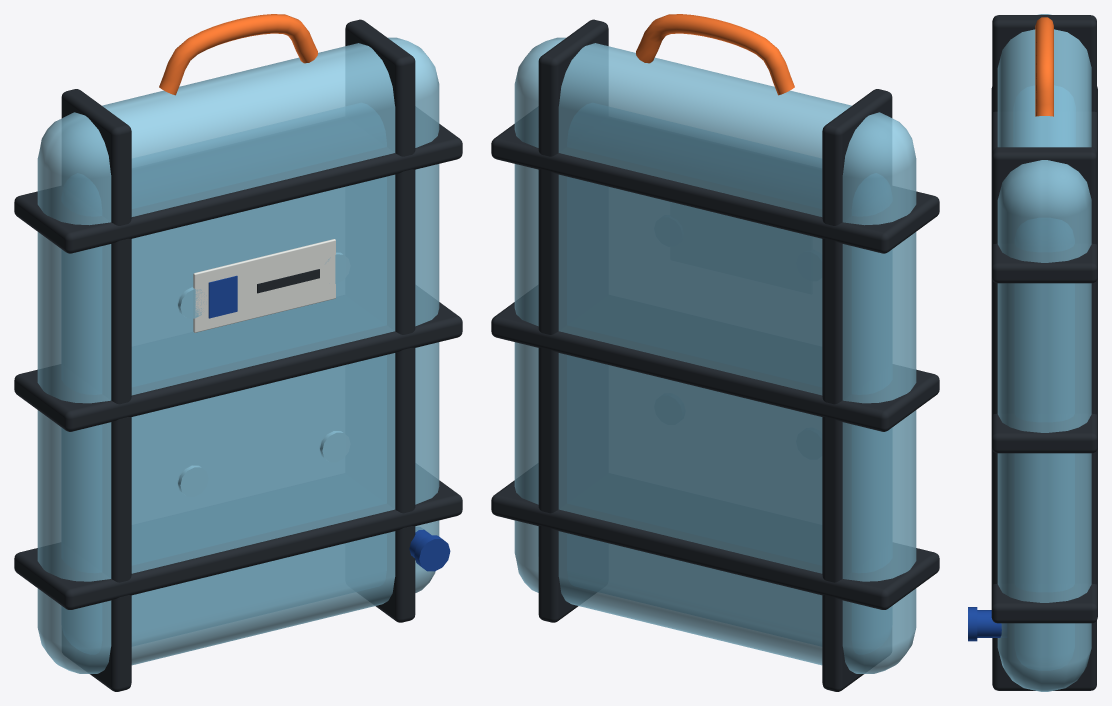
File: water-wall-bag.glb
The picture shows the model from 3 angles, left to right: view 1: azimuth 30°, elevation 25°; view 2: azimuth 150°, elevation 25°; view 3: azimuth 270°, elevation 25°; orthographic projection. The views are drawn at different scales.
Visible parts, largest first — view 1: water-wall-bag-bladder, water-wall-bag-dark-polymer, water-wall-bag-hull-white, handle-safety-orange, drink_valve-nasa-blue, water-wall-bag-nasa-blue; view 2: water-wall-bag-bladder, water-wall-bag-dark-polymer, handle-safety-orange; view 3: water-wall-bag-bladder, water-wall-bag-dark-polymer, handle-safety-orange, drink_valve-nasa-blue.
Part boxes in pixels (left/top/right/bottom): water-wall-bag-bladder: left=37, top=37, right=439, bottom=673; water-wall-bag-dark-polymer: left=14, top=19, right=462, bottom=691; water-wall-bag-hull-white: left=193, top=239, right=335, bottom=332; handle-safety-orange: left=159, top=14, right=317, bottom=95; drink_valve-nasa-blue: left=409, top=529, right=450, bottom=571; water-wall-bag-nasa-blue: left=208, top=275, right=237, bottom=318; water-wall-bag-bladder: left=514, top=37, right=916, bottom=673; water-wall-bag-dark-polymer: left=491, top=19, right=939, bottom=691; handle-safety-orange: left=636, top=14, right=794, bottom=95; water-wall-bag-bladder: left=997, top=14, right=1091, bottom=691; water-wall-bag-dark-polymer: left=991, top=15, right=1097, bottom=690; handle-safety-orange: left=1035, top=17, right=1053, bottom=116; drink_valve-nasa-blue: left=968, top=607, right=1001, bottom=641.
Size of the model in its own units: 1.4 by 2.08 by 0.415.
